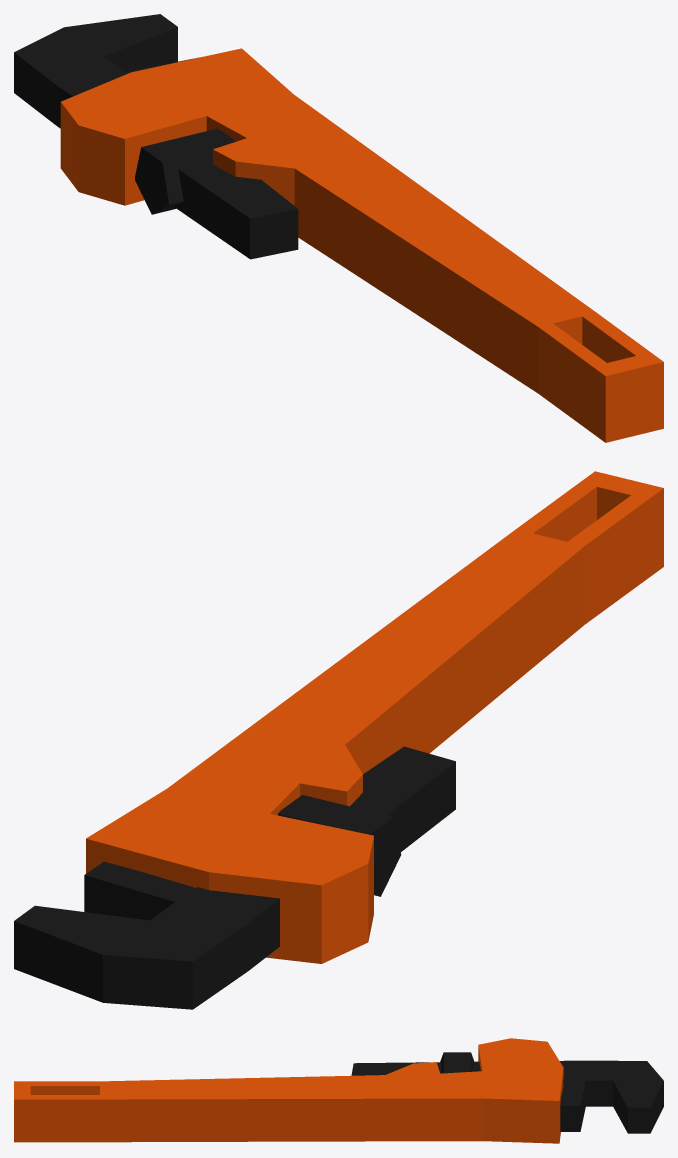
File: wrench.fbx
3 views of the same model, one above another, from view 1: azimuth 30°, elevation 25°; view 2: azimuth 150°, elevation 25°; view 3: azimuth 270°, elevation 25° (orthographic). The views are drawn at different scales.
Parts seen in each view (by area): view 1: Wrench; view 2: Wrench; view 3: Wrench.
Boxes of the visible parts, <box> form: Wrench: <box>14,14,663,442</box>; Wrench: <box>14,471,663,1009</box>; Wrench: <box>14,1038,663,1143</box>.
Size of the model in its own units: 102 by 32.21 by 445.
